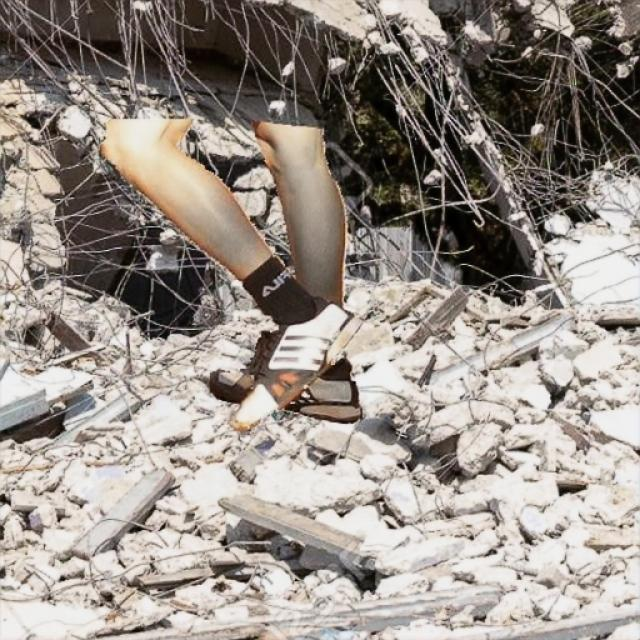Person in Rubble: (100, 119, 364, 430)
